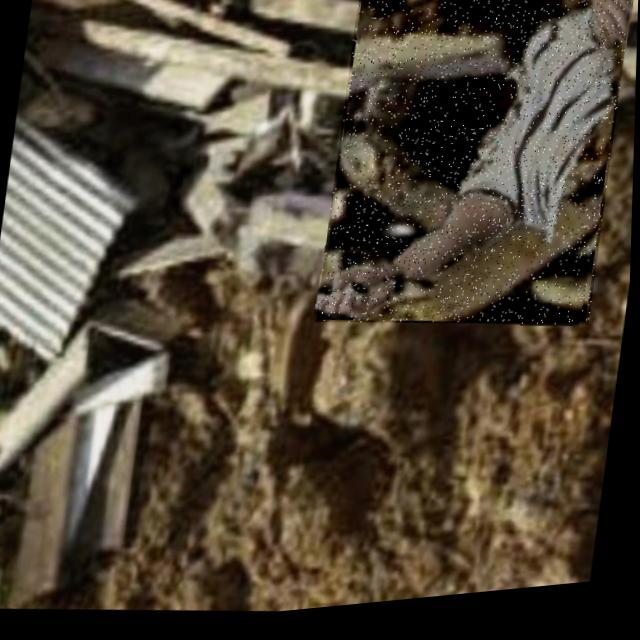Person in Rubble: (317, 0, 635, 356)
